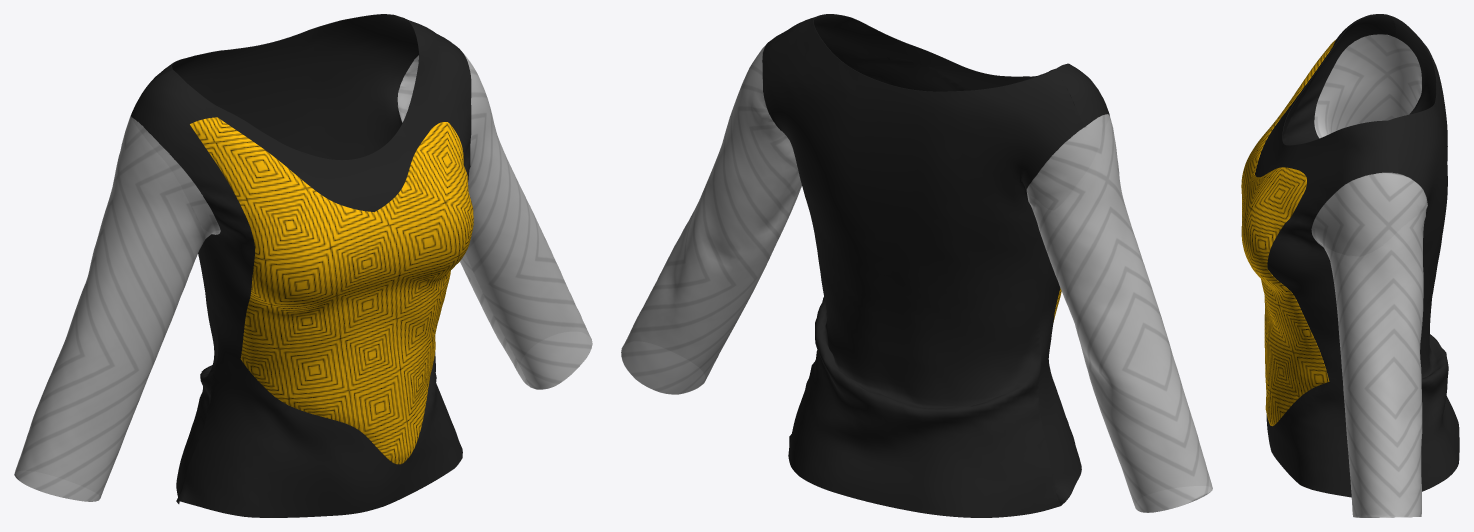
The model's file is Quad.fbx.
The picture shows the model from 3 angles, left to right: view 1: azimuth 30°, elevation 25°; view 2: azimuth 150°, elevation 25°; view 3: azimuth 270°, elevation 25°; orthographic projection. The views are drawn at different scales.
Parts seen in each view (by area): view 1: Quad; view 2: Quad; view 3: Quad.
Boxes of the visible parts, x1,y1,x2,y2 form: Quad: (14,14,592,517); Quad: (621,14,1212,517); Quad: (1241,14,1459,517).
Bounding box in the file's own units: 67.54 × 48.93 × 25.51.
